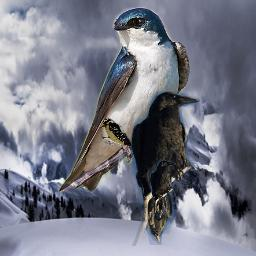Crow: (131, 91, 200, 246), (150, 160, 176, 219)
Swallow: (58, 5, 191, 194)
Woodpecker: (99, 117, 138, 153)
